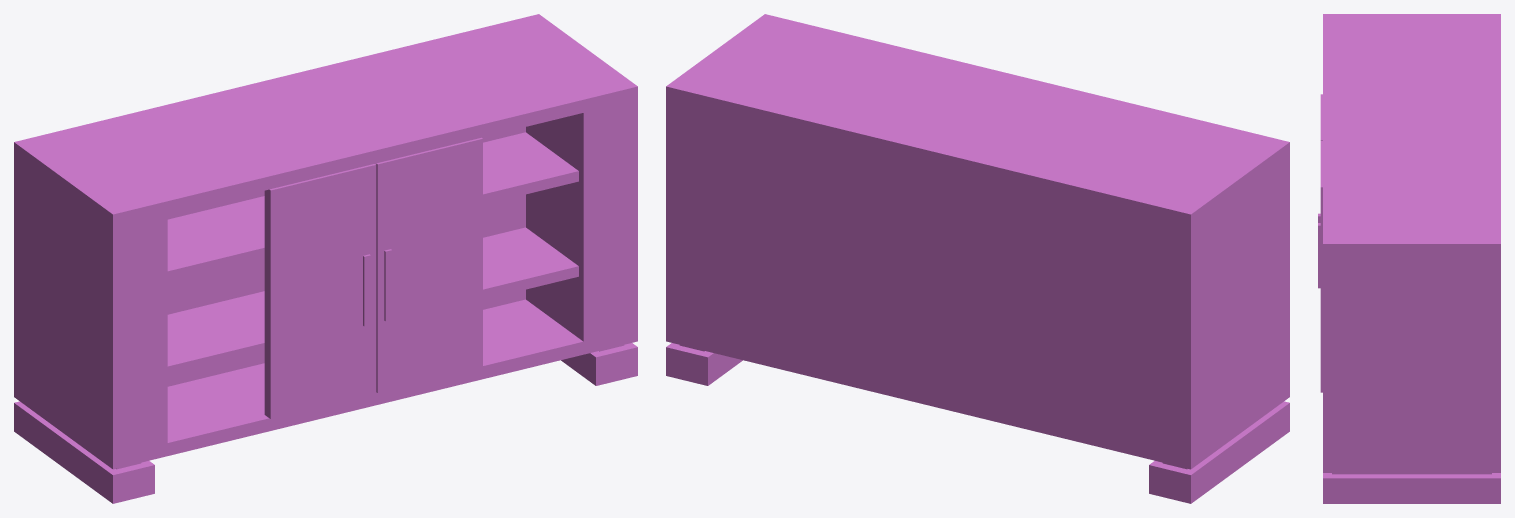
Rendered from Cupboard_2.FBX.
3 renders of one model, left to right at view 1: azimuth 30°, elevation 25°; view 2: azimuth 150°, elevation 25°; view 3: azimuth 270°, elevation 25°, orthographic. The views are drawn at different scales.
Visible parts, largest first — view 1: Cupboard_2; view 2: Cupboard_2; view 3: Cupboard_2.
Part boxes in pixels (x1,y1,x2,y2): Cupboard_2: (14, 14, 637, 503); Cupboard_2: (666, 14, 1289, 503); Cupboard_2: (1318, 14, 1500, 503).
Size of the model in its own units: 3.39 by 1.79 by 1.14.
